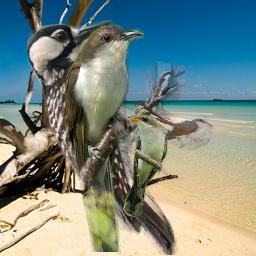Cuckoo: (65, 17, 144, 252), (123, 115, 168, 217), (135, 100, 213, 150)
Woodpecker: (26, 20, 185, 255)
